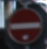No entry: (5, 6, 42, 44)
